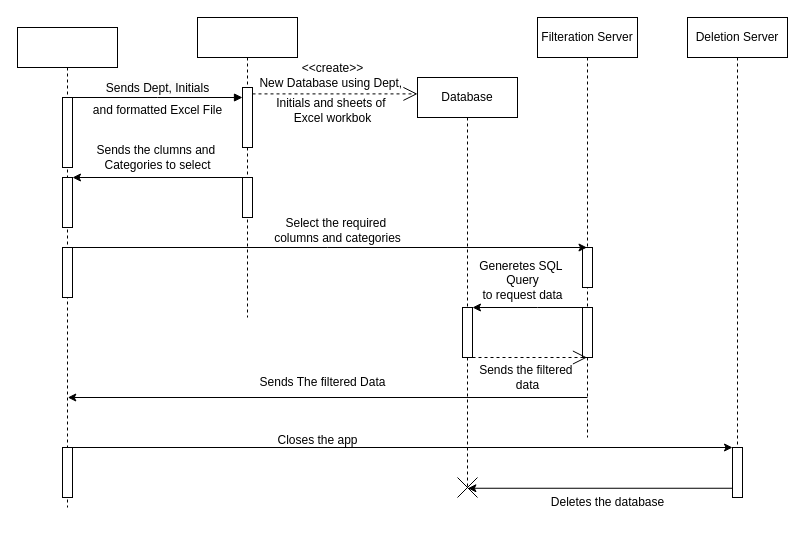
Image size: 805x535. Some labels were removed from this diagram. The shapes that lost their labels are listed below. From the top down, each one's box as (x1, y1, x2, y2) in pixels, then its label:
(196, 16, 298, 318): Creation Server
(16, 26, 118, 508): Teacher
